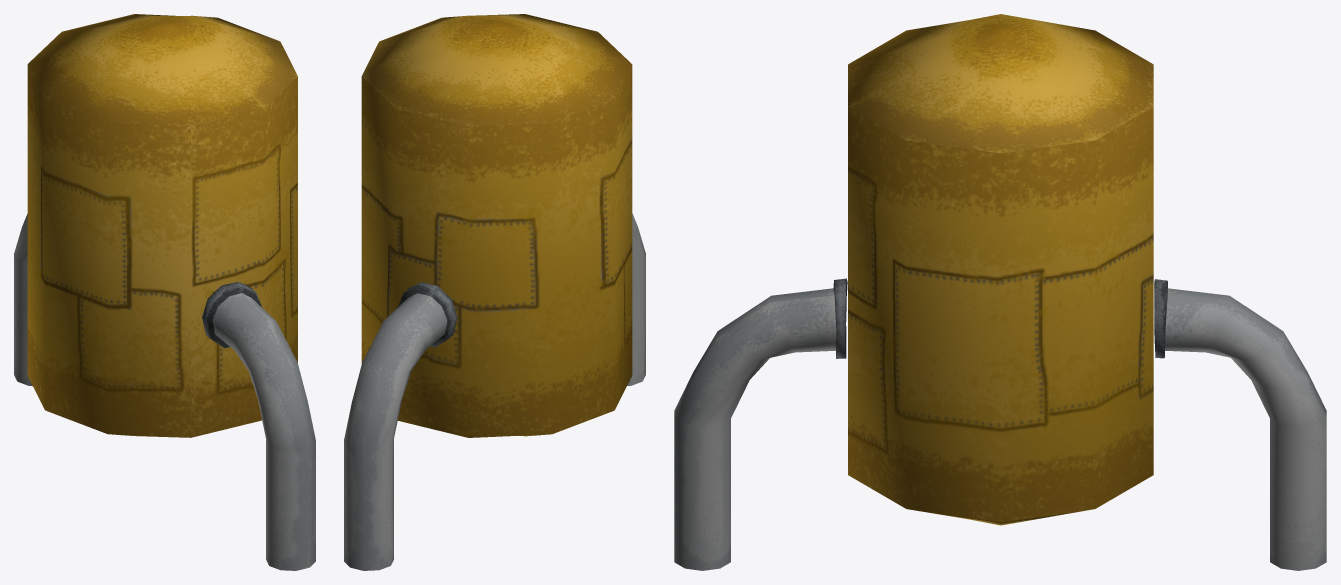
File: CamsbBoiler.fbx
The picture shows the model from 3 angles, left to right: view 1: azimuth 30°, elevation 25°; view 2: azimuth 150°, elevation 25°; view 3: azimuth 270°, elevation 25°; orthographic projection. The views are drawn at different scales.
Visible parts, largest first — view 1: pCylinder8; view 2: pCylinder8; view 3: pCylinder8.
Part boxes in pixels (<box>): pCylinder8: <box>14,14,315,570</box>; pCylinder8: <box>344,14,645,570</box>; pCylinder8: <box>674,14,1326,570</box>.
Size of the model in its own units: 321 by 576 by 651.
